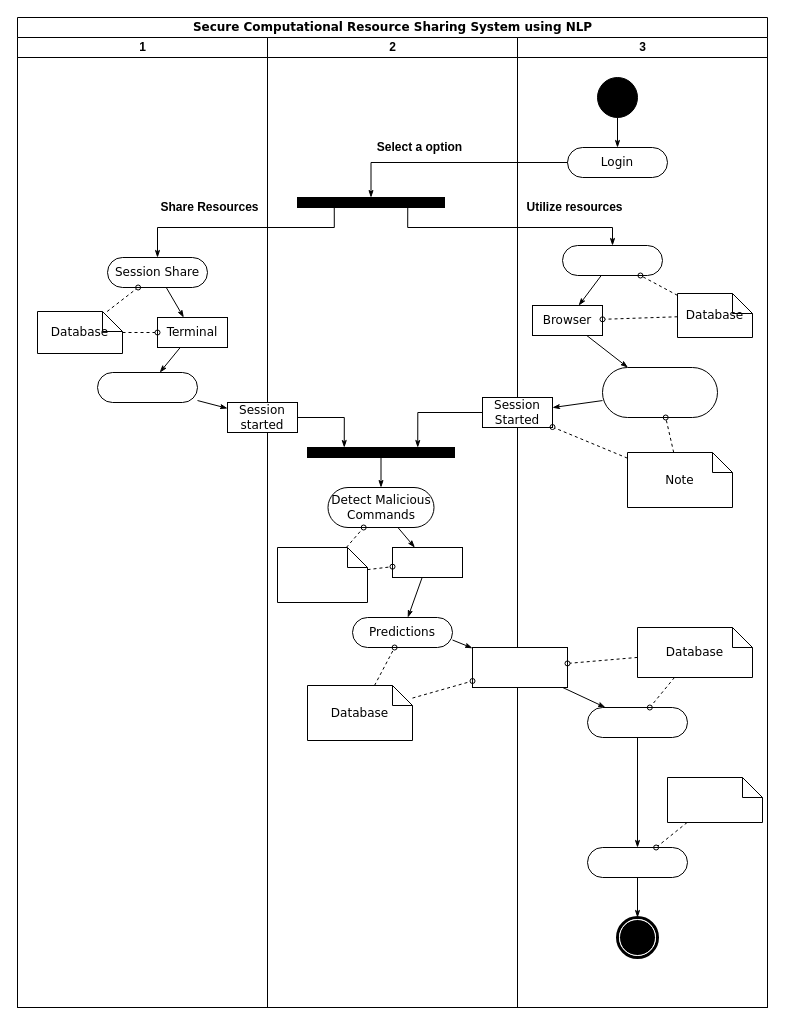
This 785x1025 diagram has some shape labels left out. Each missing label, with the box of its shape:
ADD/REDUCE credits: (586, 846, 688, 878)
Commands: (392, 546, 462, 578)
Credits: (666, 776, 762, 822)
Malicious/Not malicious: (472, 646, 568, 688)
NLP Model: (276, 546, 368, 602)
Session end: (586, 706, 688, 738)
Terminal opened in browser: (602, 366, 718, 418)
Terminal Shared: (96, 372, 198, 402)
Utilize Session: (562, 244, 662, 276)
